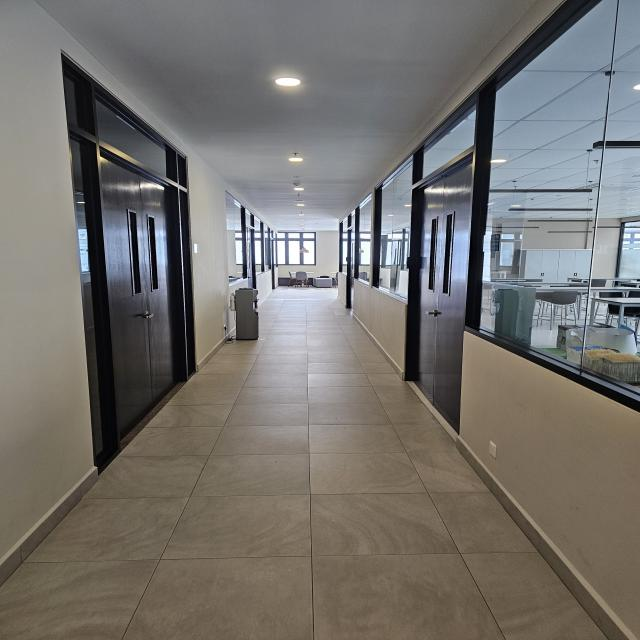door: (92, 144, 188, 450), (405, 150, 479, 437)
footpath: (94, 429, 518, 640)
obstacle: (231, 285, 262, 342)
